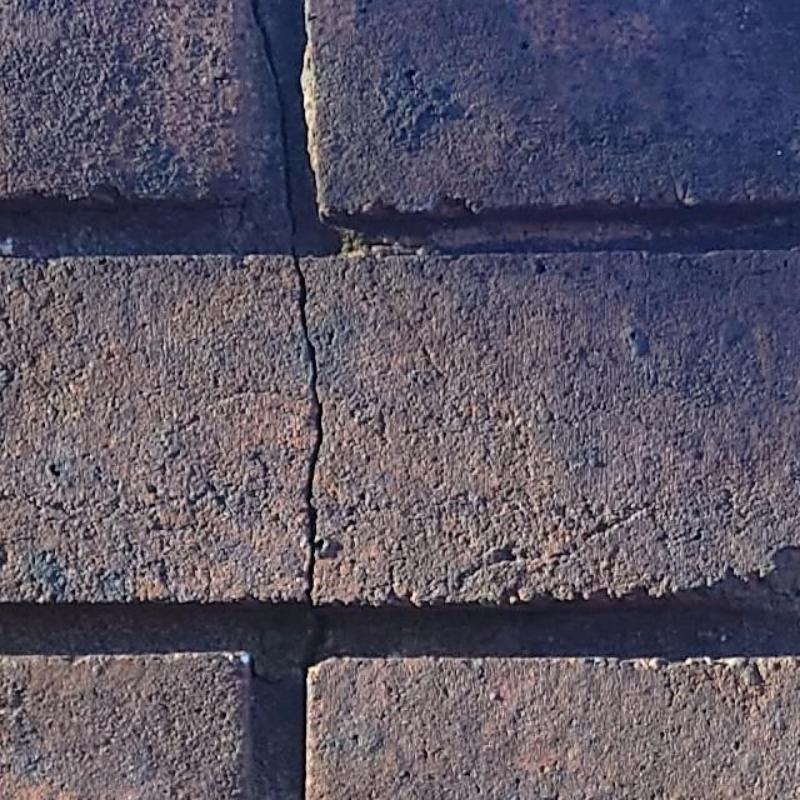crack: (290, 244, 325, 667), (247, 0, 299, 237)
